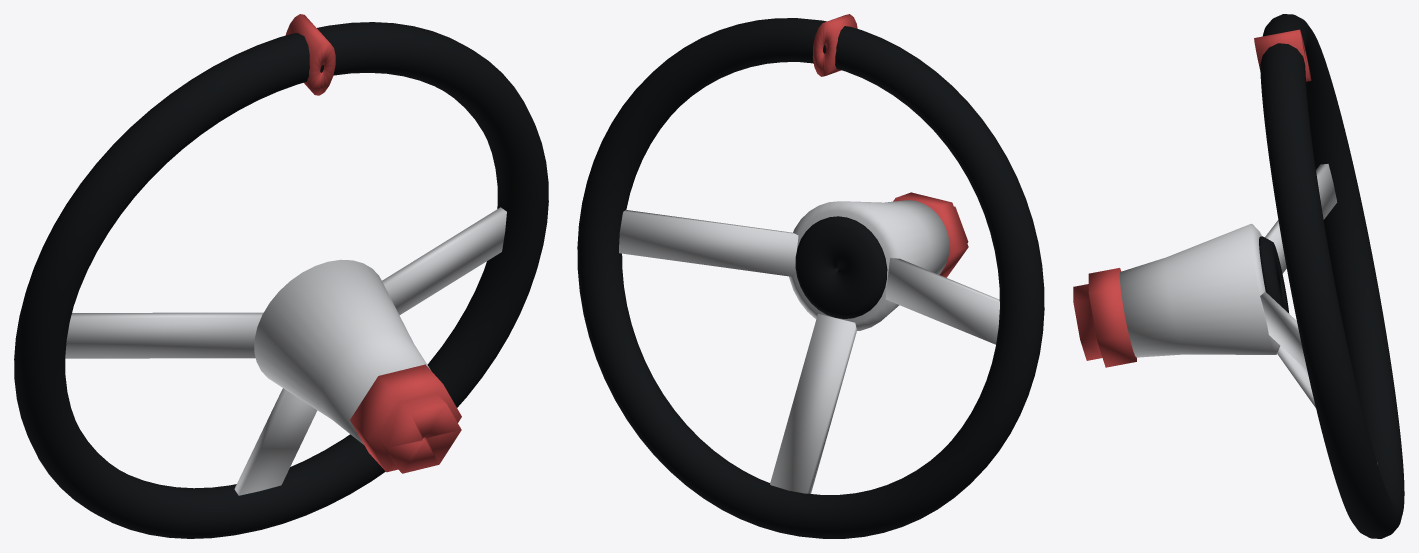
File: SW04_quick_release_wheel.glb
3 renders of one model, left to right at view 1: azimuth 30°, elevation 25°; view 2: azimuth 150°, elevation 25°; view 3: azimuth 270°, elevation 25°, orthographic. The views are drawn at different scales.
Visible parts, largest first — view 1: MOD_NA_SW04_rim, MOD_NA_SW04_boss, MOD_NA_SW04_spoke1, MOD_NA_SW04_qr, MOD_NA_SW04_spoke0, MOD_NA_SW04_spoke2, MOD_NA_SW04_marker; view 2: MOD_NA_SW04_rim, MOD_NA_SW04_spoke0, MOD_NA_SW04_spoke2, MOD_NA_SW04_horn, MOD_NA_SW04_boss, MOD_NA_SW04_spoke1, MOD_NA_SW04_qr, MOD_NA_SW04_marker; view 3: MOD_NA_SW04_rim, MOD_NA_SW04_boss, MOD_NA_SW04_qr, MOD_NA_SW04_spoke0, MOD_NA_SW04_horn, MOD_NA_SW04_spoke1, MOD_NA_SW04_marker, MOD_NA_SW04_spoke2.
Boxes of the visible parts, <box> form: MOD_NA_SW04_rim: <box>14,22,548,538</box>; MOD_NA_SW04_boss: <box>254,259,430,444</box>; MOD_NA_SW04_spoke1: <box>65,312,263,358</box>; MOD_NA_SW04_qr: <box>350,364,461,473</box>; MOD_NA_SW04_spoke0: <box>382,207,506,315</box>; MOD_NA_SW04_spoke2: <box>234,388,317,495</box>; MOD_NA_SW04_marker: <box>285,14,335,95</box>; MOD_NA_SW04_rim: <box>577,18,1044,538</box>; MOD_NA_SW04_spoke0: <box>619,210,798,276</box>; MOD_NA_SW04_spoke2: <box>770,314,856,493</box>; MOD_NA_SW04_horn: <box>795,216,887,318</box>; MOD_NA_SW04_boss: <box>789,200,949,330</box>; MOD_NA_SW04_spoke1: <box>885,258,999,344</box>; MOD_NA_SW04_qr: <box>893,192,968,277</box>; MOD_NA_SW04_marker: <box>812,14,857,76</box>; MOD_NA_SW04_rim: <box>1260,14,1404,538</box>; MOD_NA_SW04_boss: <box>1119,223,1280,357</box>; MOD_NA_SW04_qr: <box>1073,268,1136,367</box>; MOD_NA_SW04_spoke0: <box>1260,291,1307,370</box>; MOD_NA_SW04_horn: <box>1259,236,1289,313</box>; MOD_NA_SW04_spoke1: <box>1265,164,1337,273</box>; MOD_NA_SW04_marker: <box>1254,29,1311,81</box>; MOD_NA_SW04_spoke2: <box>1277,346,1377,464</box>.
Bounding box in the file's own units: 0.367 × 0.3668 × 0.2275.
